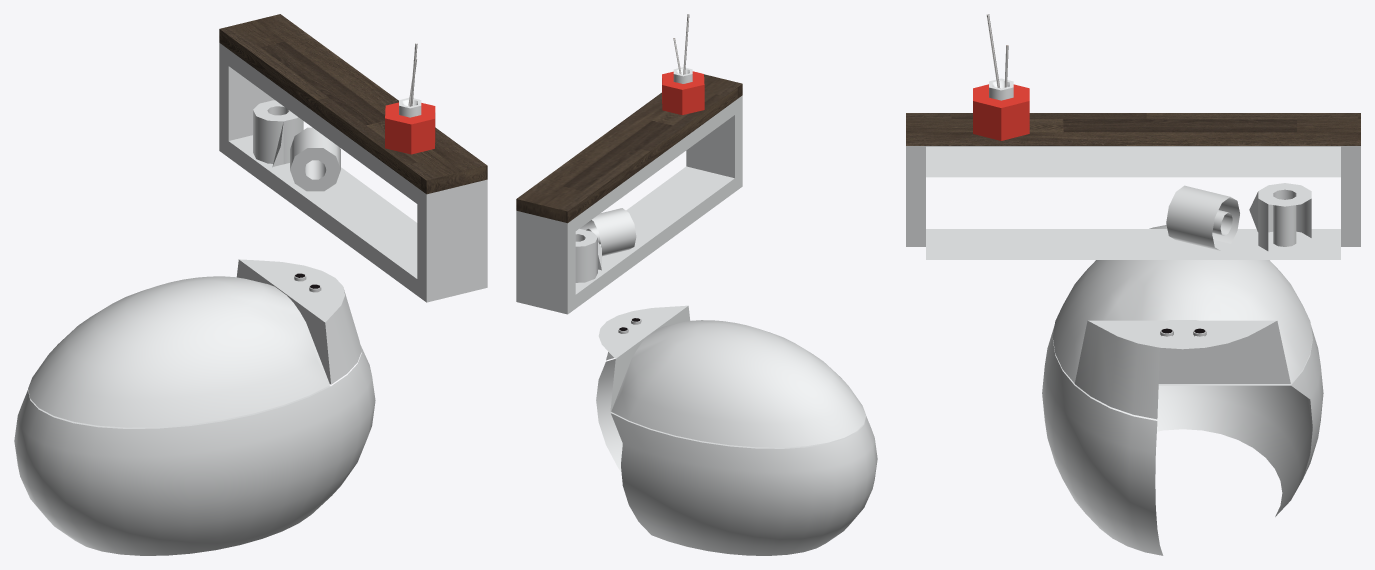
File: M_BRmatong04.FBX
3 views of the same model, side by side, from view 1: azimuth 30°, elevation 25°; view 2: azimuth 150°, elevation 25°; view 3: azimuth 270°, elevation 25° (orthographic). The views are drawn at different scales.
Visible parts, largest first — view 1: M_BRmatong04_01, M_BRmatong04_06, M_BRmatong04_03, M_BRmatong04_04, M_BRmatong04_02; view 2: M_BRmatong04_01, M_BRmatong04_06, M_BRmatong04_03, M_BRmatong04_04, M_BRmatong04_02; view 3: M_BRmatong04_01, M_BRmatong04_06, M_BRmatong04_03, M_BRmatong04_04, M_BRmatong04_05.
Boxes of the visible parts, x1,y1,x2,y2 form: M_BRmatong04_01: [14, 43, 487, 555]; M_BRmatong04_06: [219, 14, 487, 194]; M_BRmatong04_03: [253, 43, 417, 191]; M_BRmatong04_04: [385, 102, 435, 154]; M_BRmatong04_02: [28, 278, 330, 428]; M_BRmatong04_01: [516, 95, 877, 555]; M_BRmatong04_06: [516, 74, 742, 223]; M_BRmatong04_03: [575, 14, 689, 282]; M_BRmatong04_04: [662, 71, 704, 115]; M_BRmatong04_02: [611, 323, 865, 448]; M_BRmatong04_01: [906, 146, 1360, 555]; M_BRmatong04_06: [906, 113, 1360, 145]; M_BRmatong04_03: [986, 14, 1311, 250]; M_BRmatong04_04: [973, 84, 1029, 140]; M_BRmatong04_05: [989, 78, 1206, 336].
Bounding box in the file's own units: 1.27 × 1.82 × 1.36.
